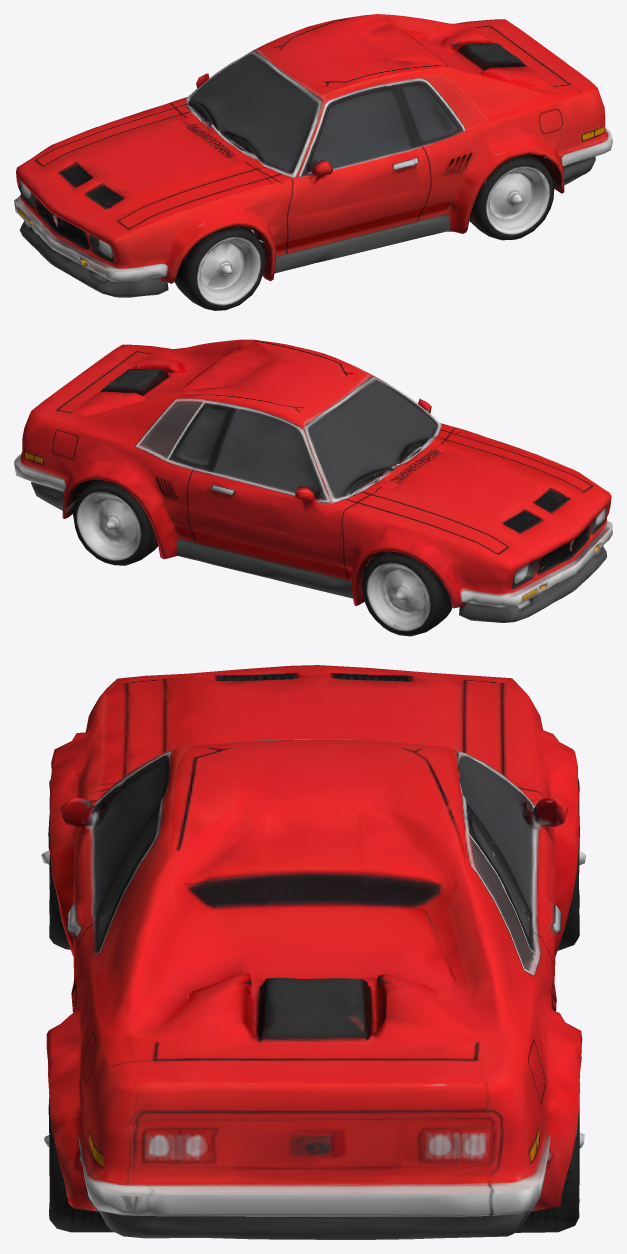
File: Meshy_AI_Skyway_Cruiser_0204053645_texture.glb
The picture shows the model from 3 angles, top to bottom: view 1: azimuth 30°, elevation 25°; view 2: azimuth 150°, elevation 25°; view 3: azimuth 270°, elevation 25°; orthographic projection. The views are drawn at different scales.
Bounding box in the file's own units: 1.92 × 0.6075 × 0.8831.
Materials: 1 (1 with a texture image).
